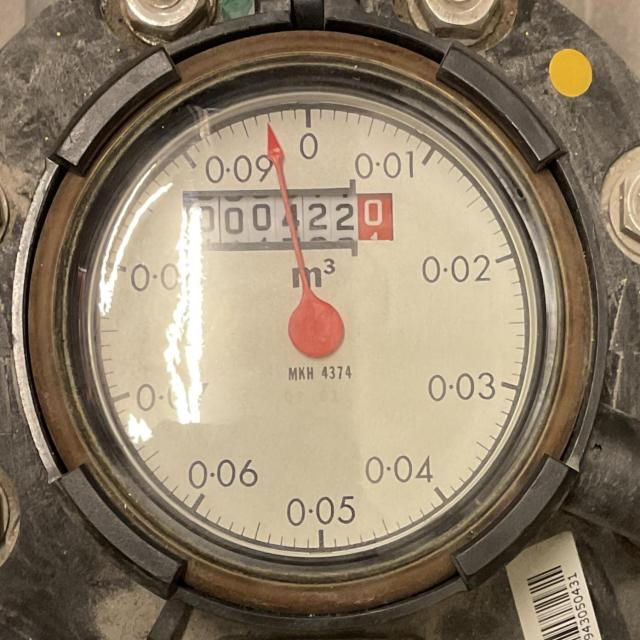gaz_meter: (91, 88, 543, 557)
indication: (182, 190, 392, 248)
